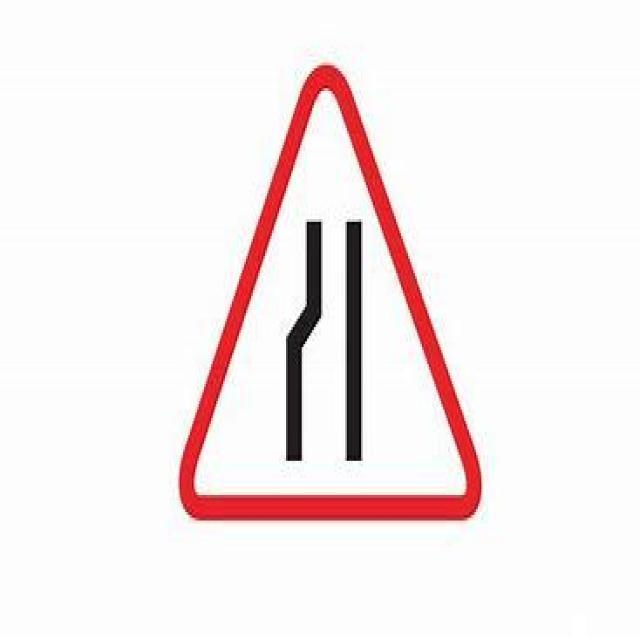narrow road ahead: (178, 68, 482, 521)
